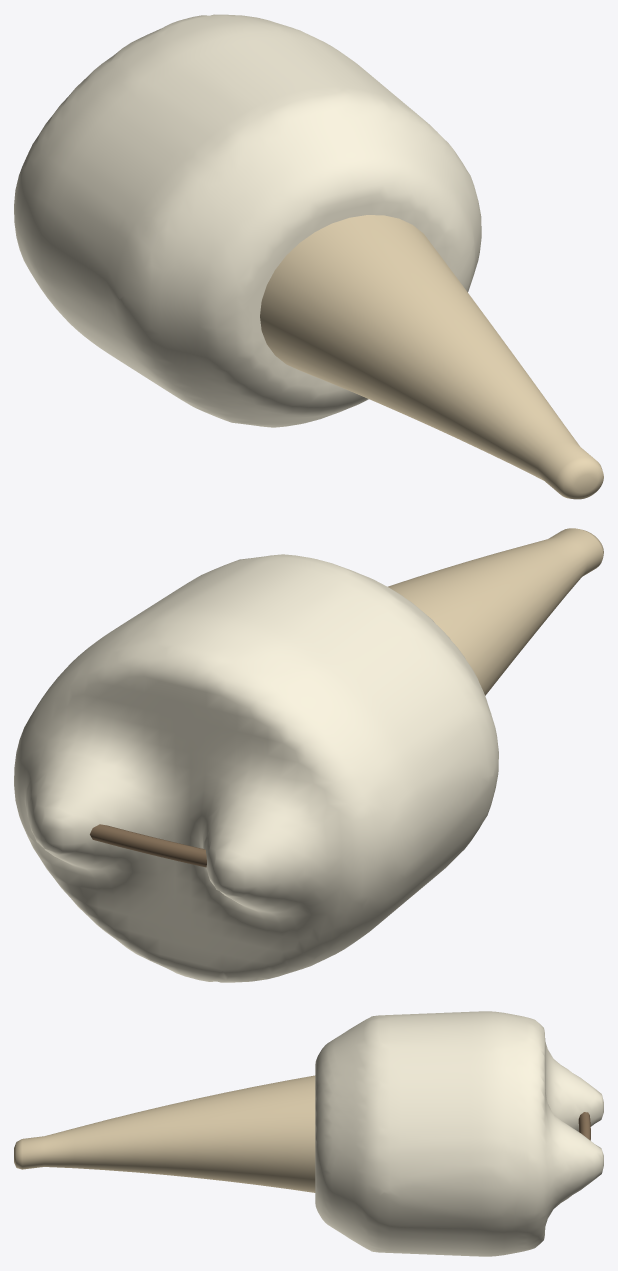
Rendered from second-premolar.glb.
3 views of the same model, one above another, from view 1: azimuth 30°, elevation 25°; view 2: azimuth 150°, elevation 25°; view 3: azimuth 270°, elevation 25° (orthographic). The views are drawn at different scales.
Visible parts, largest first — view 1: Crown_Anatomical.004, Root_1.004; view 2: Crown_Anatomical.004, Root_1.004, Central_Groove.001; view 3: Crown_Anatomical.004, Root_1.004.
Part boxes in pixels (x1=…): Crown_Anatomical.004: x1=14, y1=14, x2=481, y2=427; Root_1.004: x1=260, y1=215, x2=603, y2=499; Crown_Anatomical.004: x1=14, y1=554, x2=498, y2=982; Root_1.004: x1=388, y1=528, x2=603, y2=695; Central_Groove.001: x1=90, y1=824, x2=206, y2=867; Crown_Anatomical.004: x1=315, y1=1011, x2=603, y2=1256; Root_1.004: x1=14, y1=1075, x2=315, y2=1192.
Size of the model in its own units: 0.8641 by 0.7468 by 1.8.
